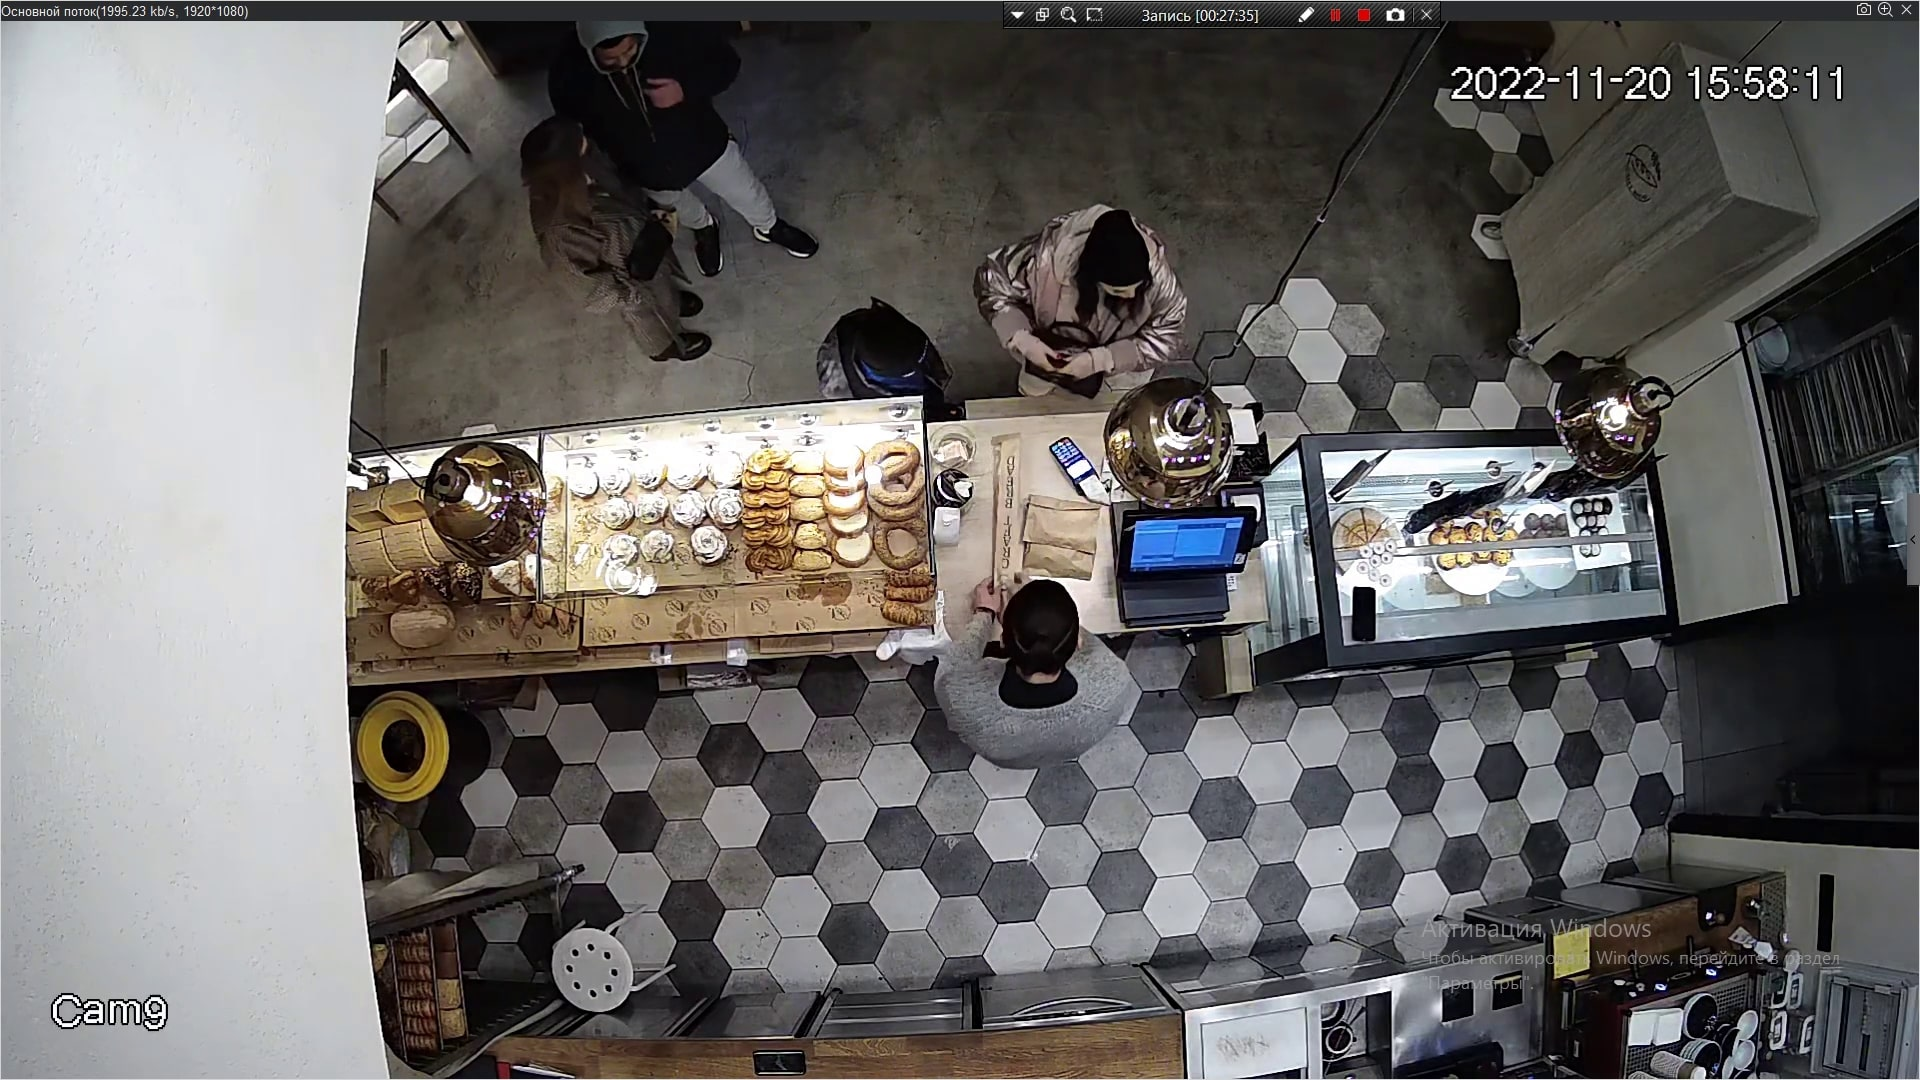barcounter: (364, 439, 1669, 673)
pack: (1011, 500, 1105, 584), (989, 425, 1023, 593)
terminal: (1055, 440, 1100, 493)
